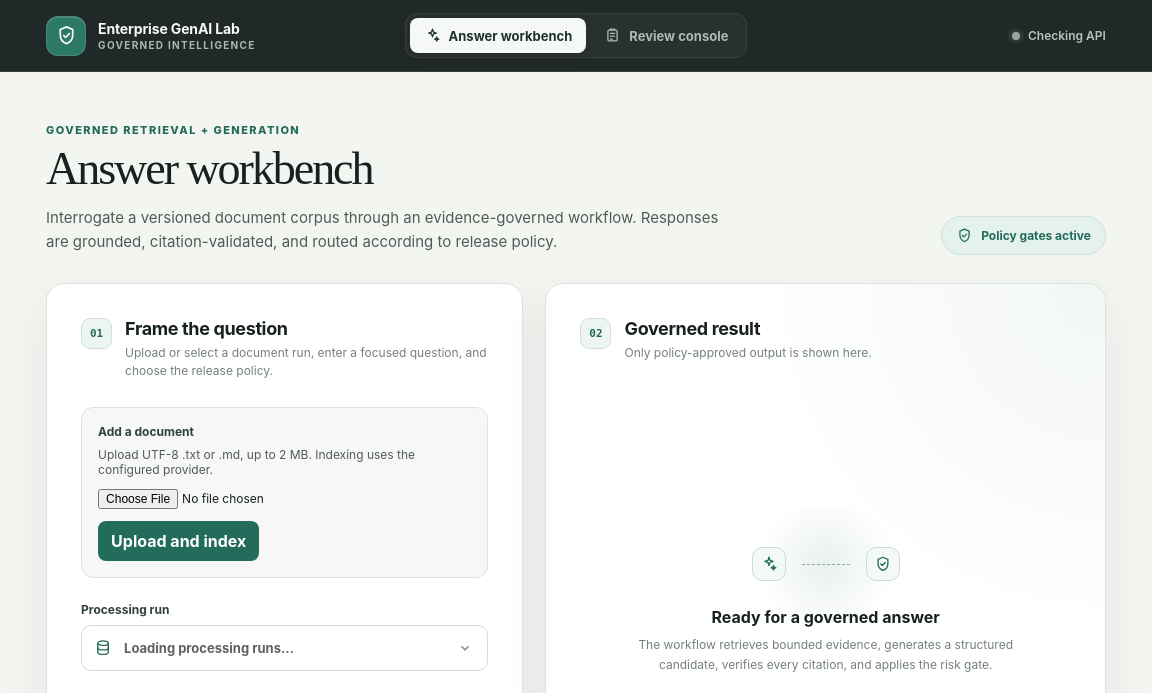
Test: moves between the governed answer and review surfaces
Expected: the heading "Answer workbench" is shown, [46,143,372,194]
Click the button "Review console" at [666, 36], box [590,18,742,53]
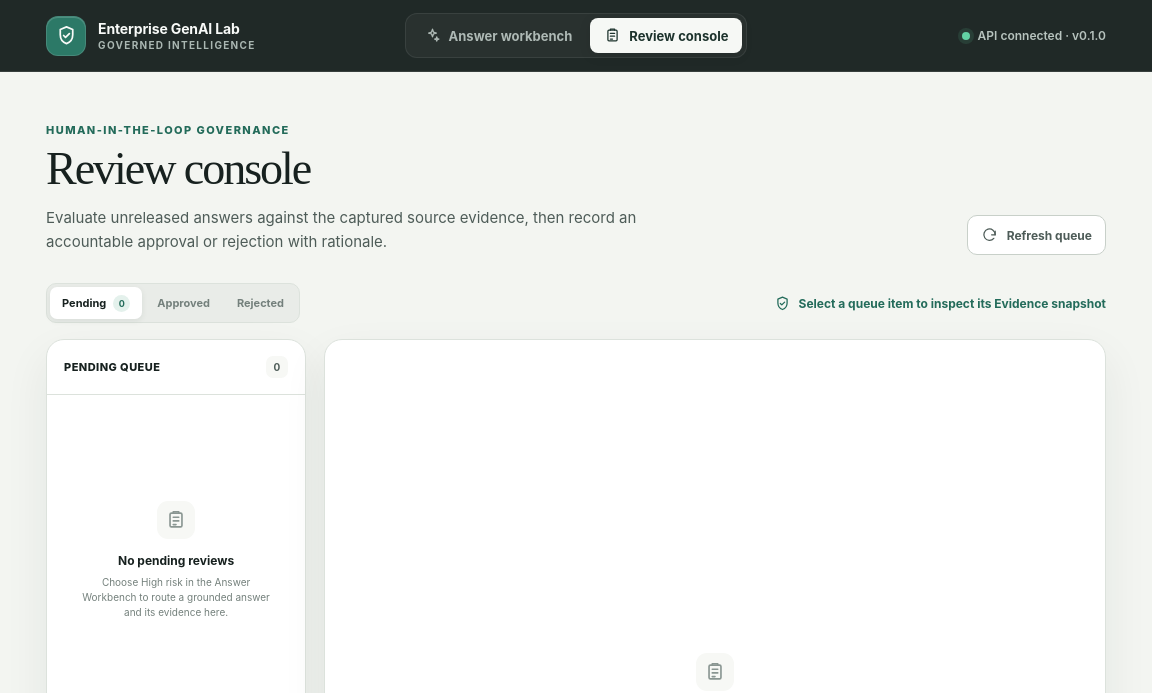
Result: the heading "Review console" is shown at [46,143,310,194]
Result: the text "No pending reviews" is shown at [118,553,234,568]
